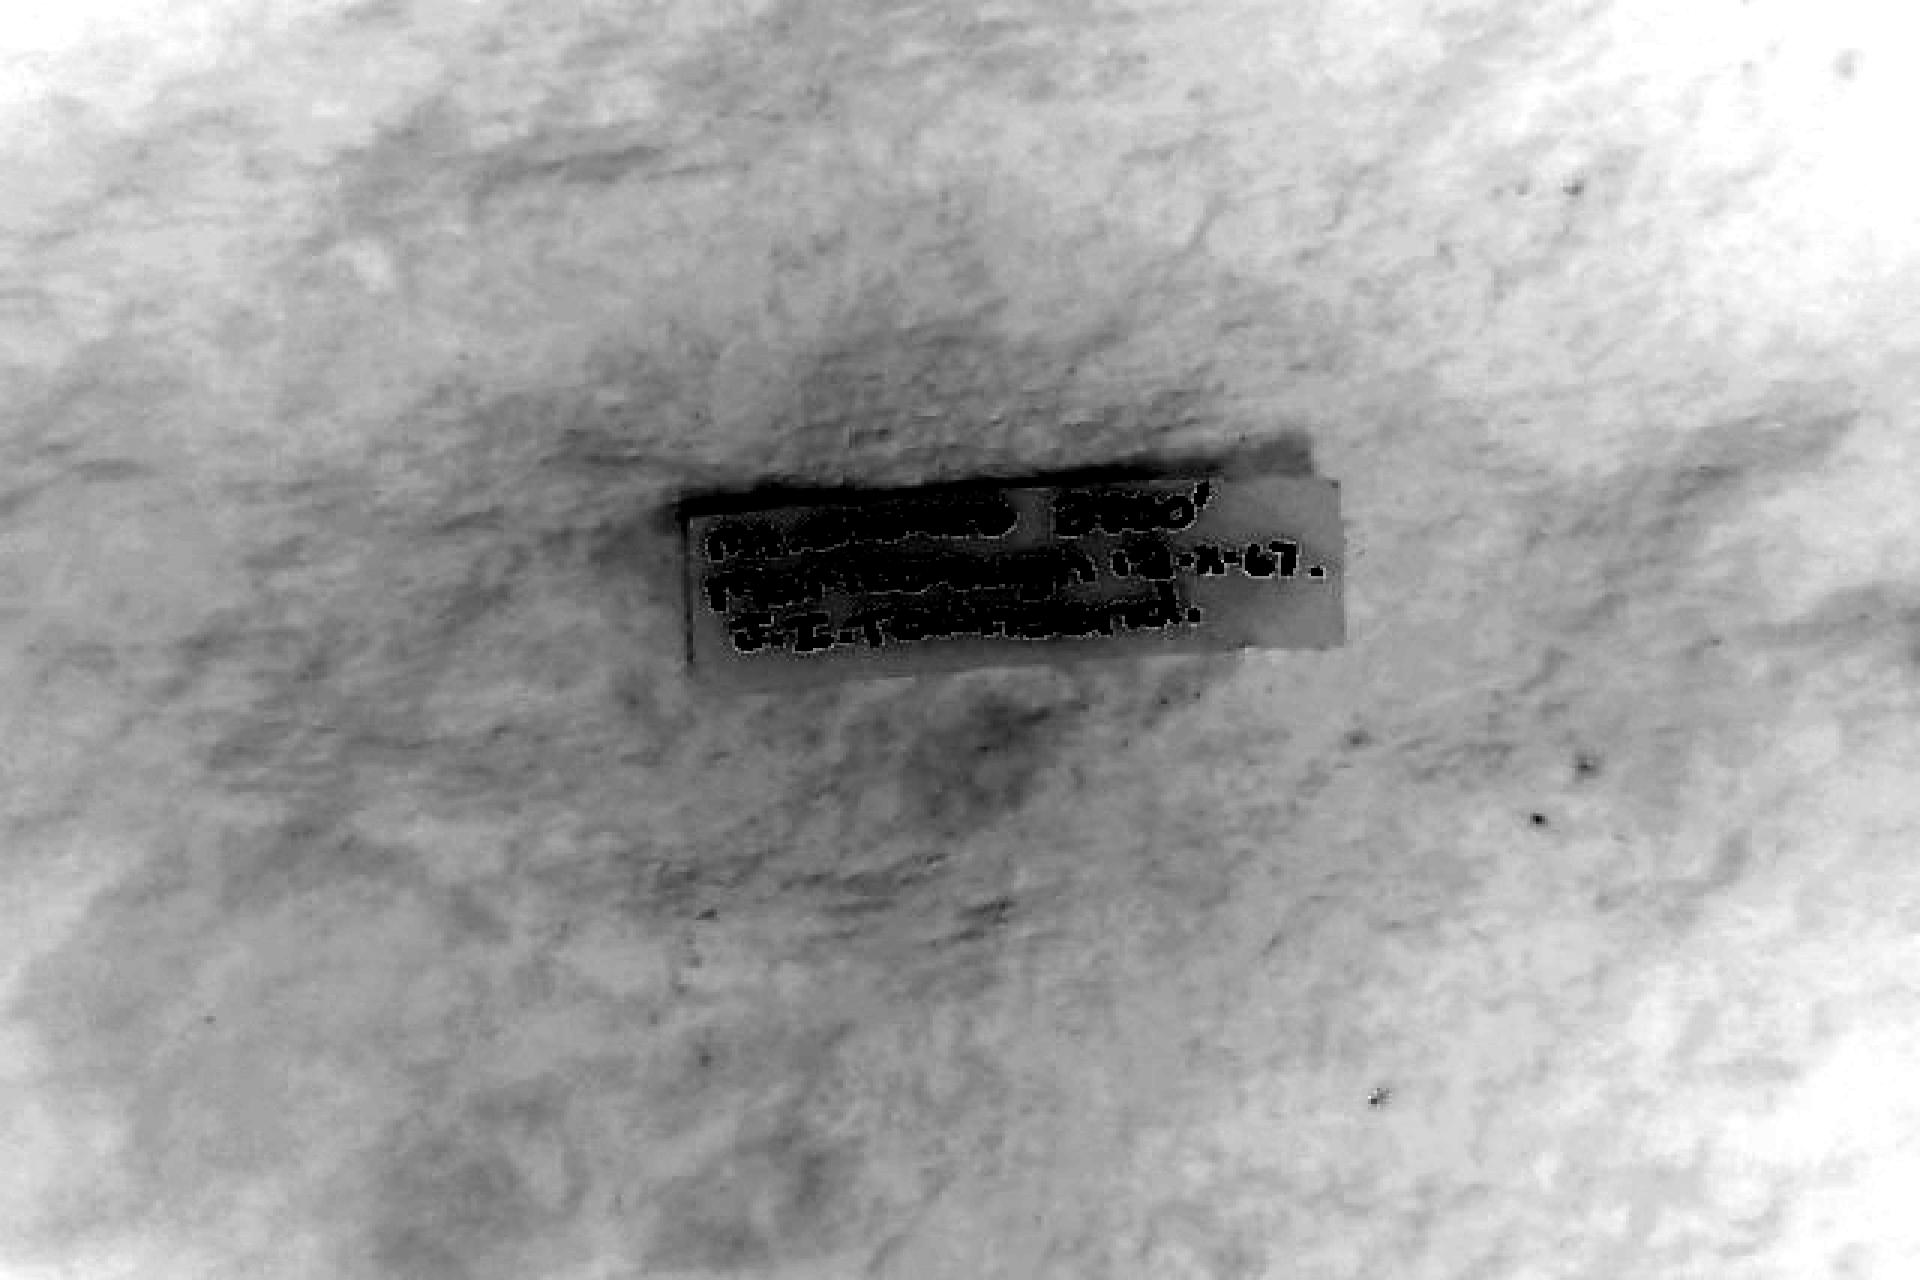hand_label: (691, 477, 1343, 686)
